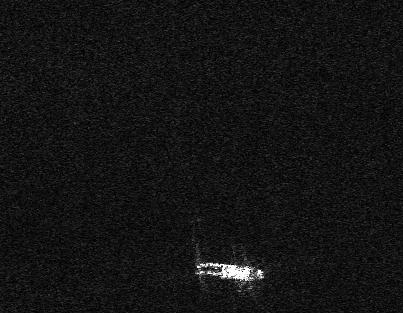ship: (195, 257, 266, 281)
